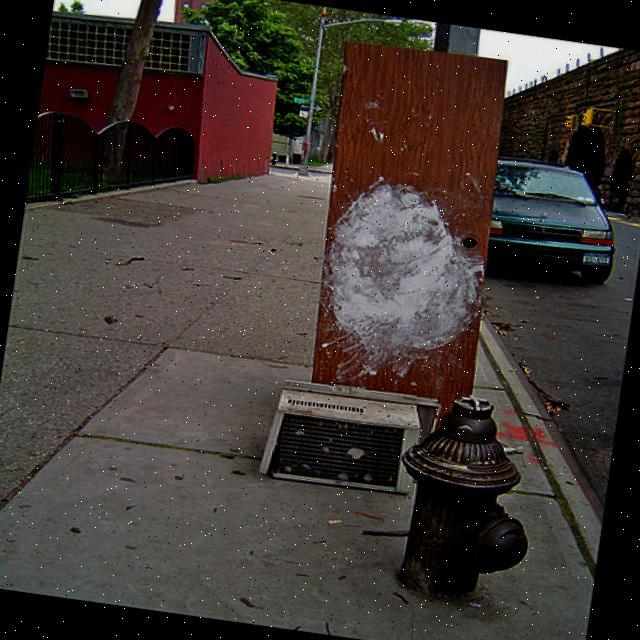fire_hydrant: (381, 387, 552, 611)
